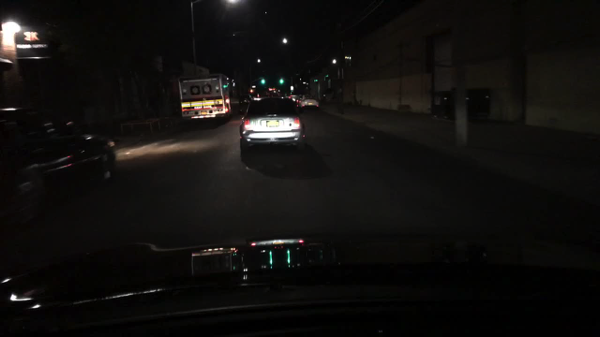car: (0, 108, 117, 228), (239, 97, 306, 154), (296, 94, 320, 112), (238, 95, 251, 116), (251, 91, 269, 101), (286, 92, 301, 103)
traffic light: (260, 75, 264, 84), (279, 76, 283, 84)
truck: (176, 74, 232, 126)
